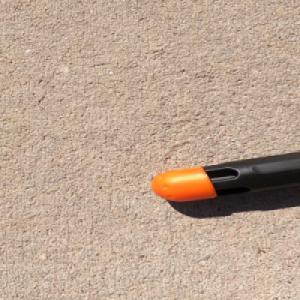PlasticPart: (150, 149, 300, 203)
